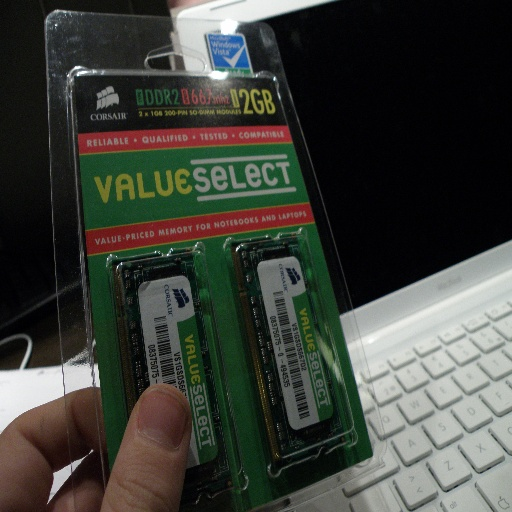hand: (0, 381, 194, 511)
